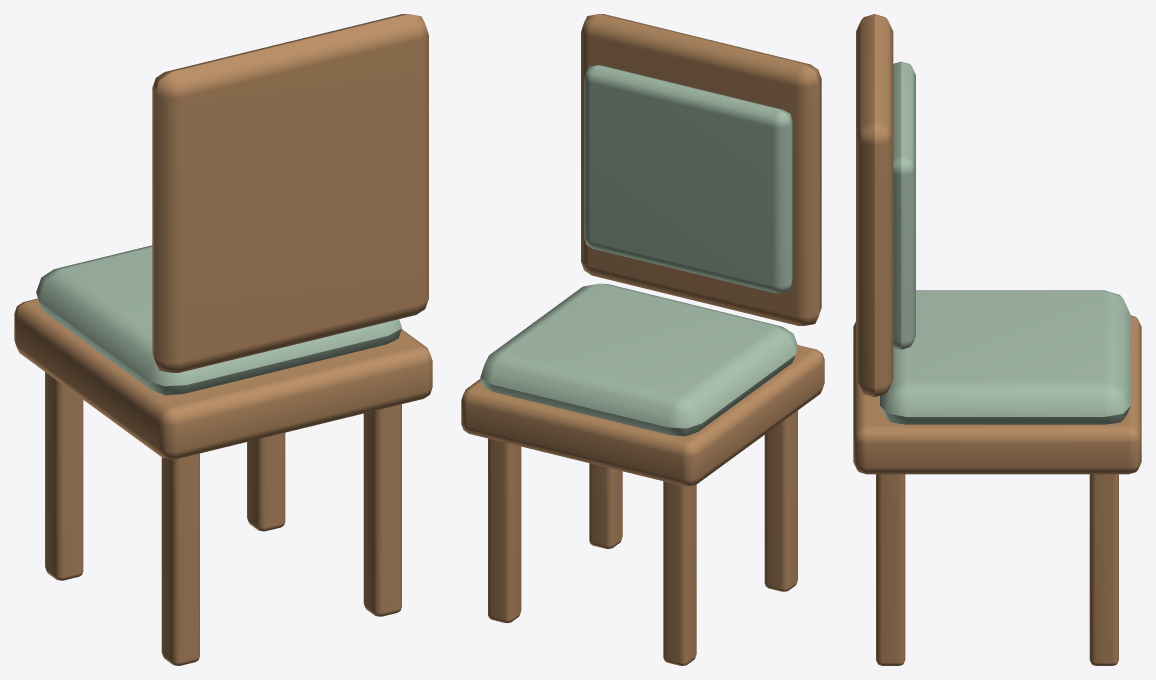
File: chair.glb
3 renders of one model, left to right at view 1: azimuth 30°, elevation 25°; view 2: azimuth 150°, elevation 25°; view 3: azimuth 270°, elevation 25°, orthographic. The views are drawn at different scales.
Visible parts, largest first — view 1: Seat shell, Fabric cushion; view 2: Fabric cushion, Seat shell; view 3: Seat shell, Fabric cushion.
Boxes of the visible parts, x1=… form: Seat shell: x1=14, y1=14, x2=432, y2=665; Fabric cushion: x1=36, y1=245, x2=401, y2=395; Fabric cushion: x1=480, y1=65, x2=798, y2=436; Seat shell: x1=461, y1=14, x2=824, y2=665; Seat shell: x1=853, y1=14, x2=1141, y2=665; Fabric cushion: x1=880, y1=61, x2=1130, y2=424.
Bounding box in the file's own units: 0.54 × 1.14 × 0.54.
